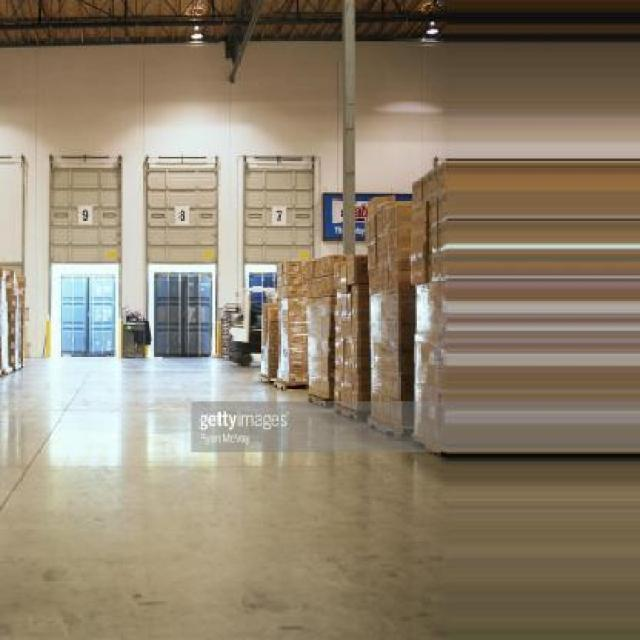forklift: (228, 284, 282, 370)
